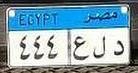4: (18, 35, 31, 63), (45, 34, 58, 61), (32, 34, 45, 61)
ain: (71, 34, 89, 63)
daal: (111, 38, 125, 59)
laam: (92, 31, 108, 59)
